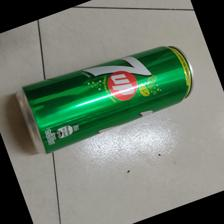7up: (14, 44, 195, 157)
